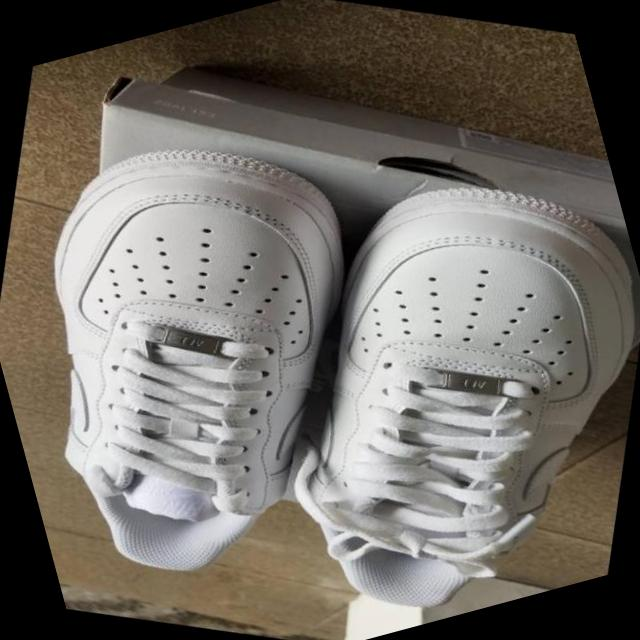nike_original_airforce: (0, 54, 465, 640), (170, 92, 640, 640)
